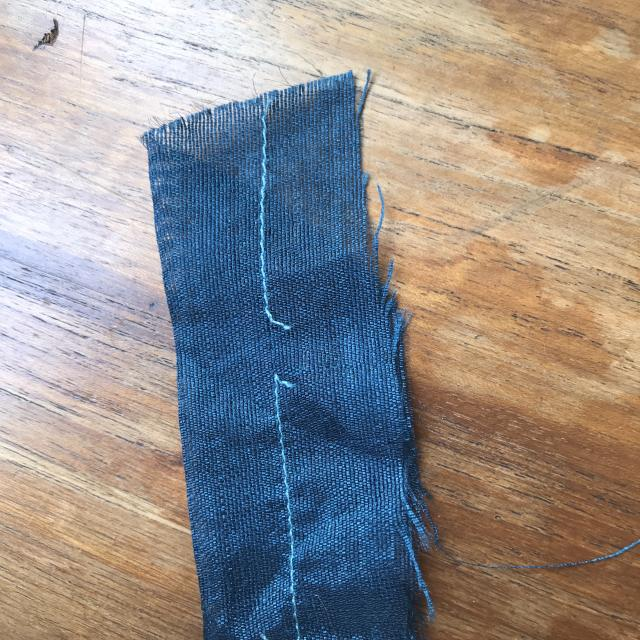broken: (249, 300, 318, 398)
